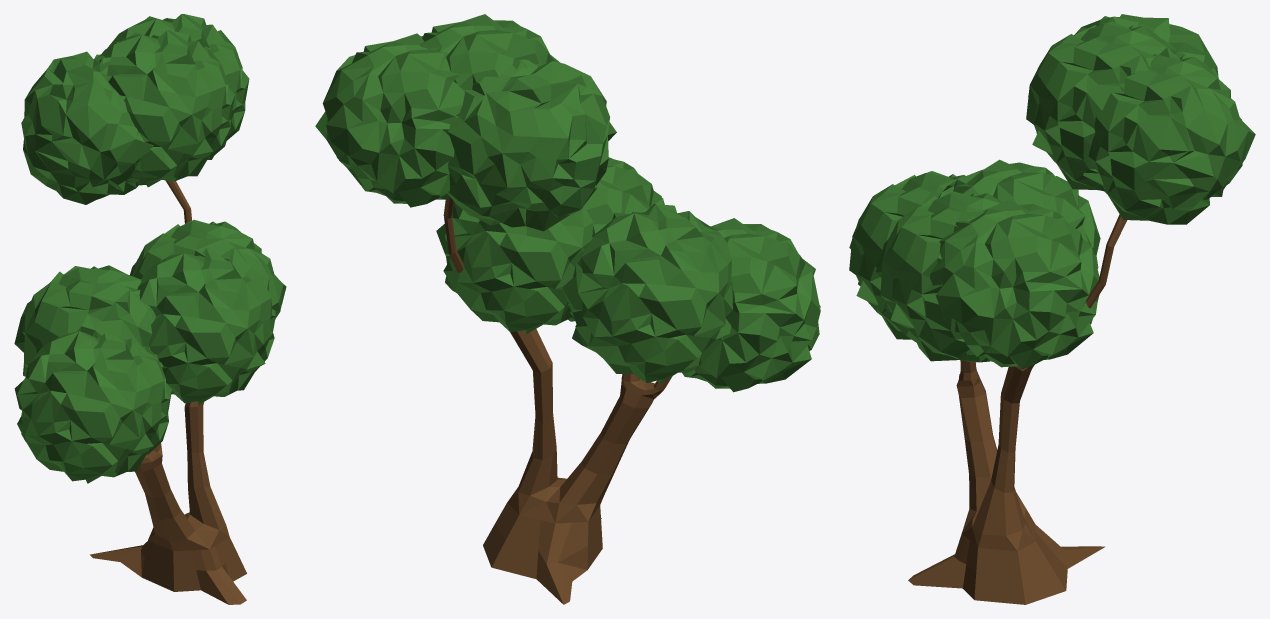
Rendered from folliage6.glb.
3 views of the same model, side by side, from view 1: azimuth 30°, elevation 25°; view 2: azimuth 150°, elevation 25°; view 3: azimuth 270°, elevation 25° (orthographic). The views are drawn at different scales.
Visible parts, largest first — view 1: LowPoly Tree 07.018; view 2: LowPoly Tree 07.018; view 3: LowPoly Tree 07.018.
Boxes of the visible parts, bbox=[...] form: LowPoly Tree 07.018: bbox=[14, 14, 286, 604]; LowPoly Tree 07.018: bbox=[315, 14, 820, 604]; LowPoly Tree 07.018: bbox=[849, 14, 1255, 604].
Size of the model in its own units: 1.3 by 1.94 by 1.3.
